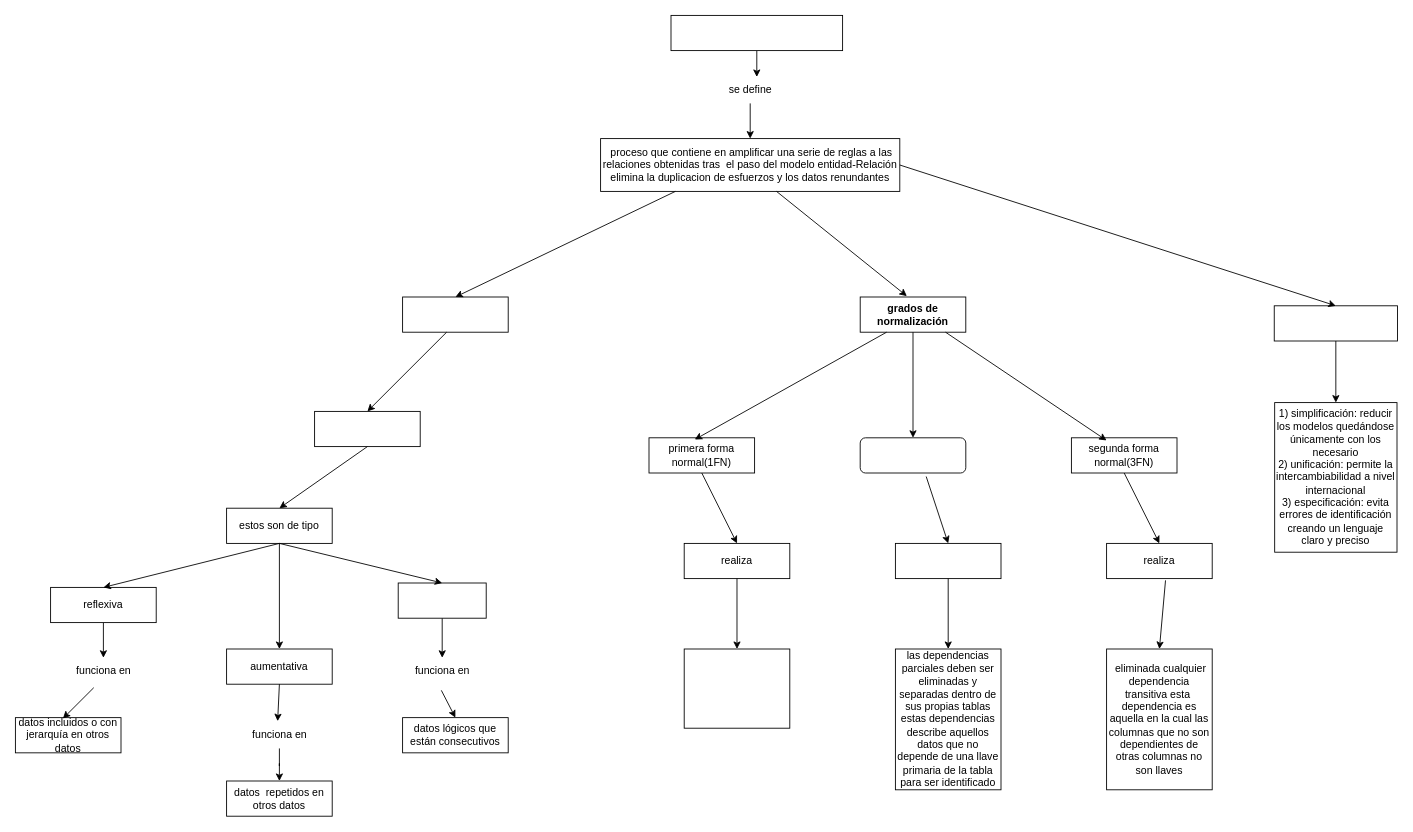
This 1413x832 diagram has some shape labels left out. Here are the shapes that lost their labels. From the top down, the centre of each, then its label:
At (756,33): "normalización de bases de datos".
At (455,314): "sus atributos se refiere a".
At (1335,323): "la normalización persigue 0bjetivo".
At (367,429): "dependencias funcionales".
At (912,455): "segunda forma norma(2FN)".
At (948,561): "asegura".
At (441,600): "transitiva".
At (736,688): "las columnas repetidas deben eliminarse en tablas separadas".
